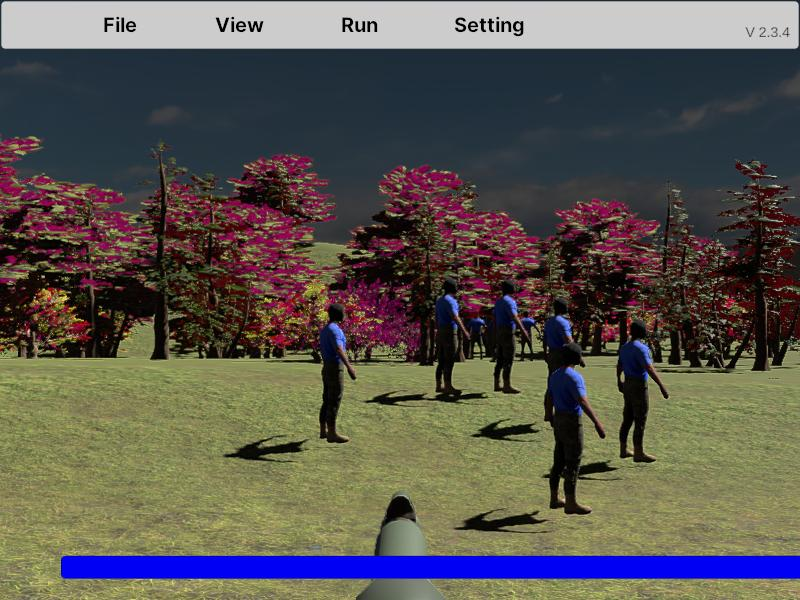Human: (545, 341, 606, 516), (616, 317, 669, 462), (320, 301, 356, 442), (490, 281, 531, 394), (433, 277, 470, 398), (542, 297, 578, 417)
